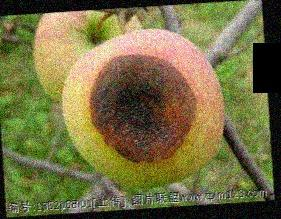rotten apple: (62, 28, 223, 190)
